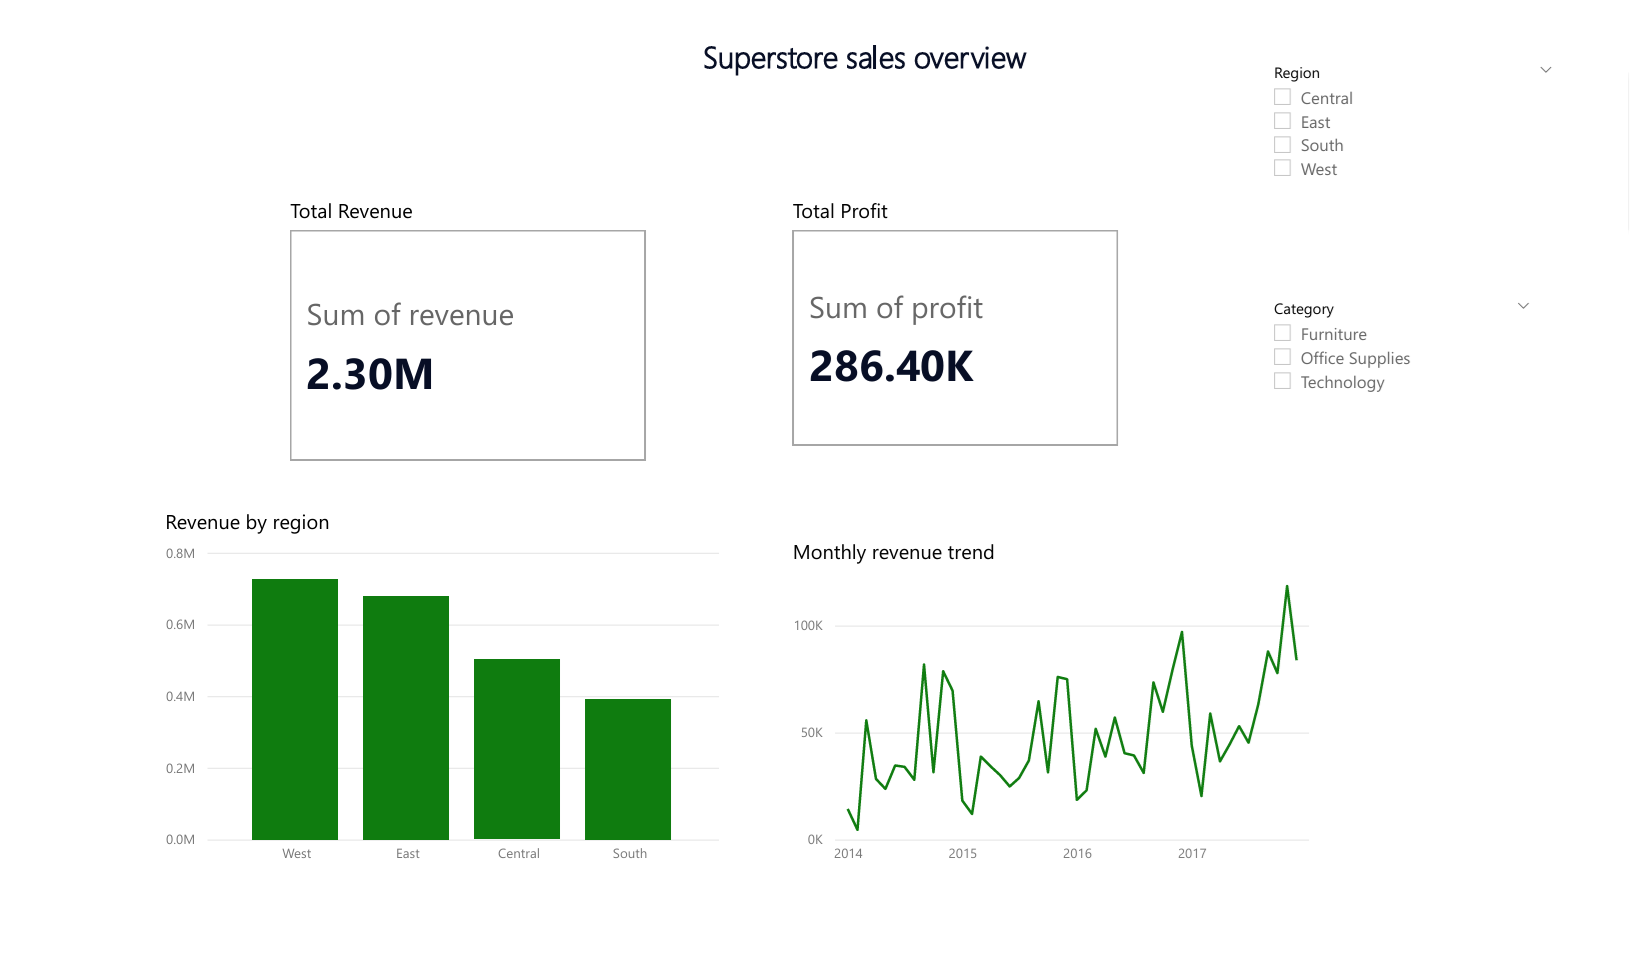

This screenshot's page, from the dashboard's own definition file:
{"tool":"powerbi","page":{"name":"Page 1","canvas":[1280,720],"ordinal":0},"visuals":[{"type":"cardVisual","title":"Total Revenue","fields":{"Data":["Sum(revenue_by_region.revenue)","Sum(revenue_by_region.revenue)"]},"box":[204.3,134.3,294.3,215.7],"z":0},{"type":"cardVisual","title":"Total Profit","fields":{"Data":["Sum(revenue_by_region.profit)"]},"box":[605.7,134.3,270,204.3],"z":1000},{"type":"clusteredColumnChart","title":"Revenue by region","fields":{"Category":["revenue_by_region.Region"],"Y":["Sum(revenue_by_region.revenue)"]},"box":[104.3,382.9,452.9,292.9],"z":2000},{"type":"lineChart","title":"Monthly revenue trend","fields":{"Y":["Sum(monthly_revenue_growth.revenue)"],"Category":["monthly_revenue_growth.month"]},"box":[605.7,407.1,425.7,268.6],"z":3000},{"type":"slicer","fields":{"Values":["revenue_by_region.Region"]},"box":[982.9,21.4,248.6,160],"z":4000},{"type":"slicer","fields":{"Values":["Superstore_clean.Category"]},"box":[982.9,210,230,138.6],"z":5000},{"type":"textbox","box":[534.3,0,315.7,75.7],"z":5001}]}

Visuals, with their boxes in screenshot pixels (x1, y1, x2, y2), scaled from the page's 1280x720 canvas onto the 1652x957 screenshot:
"Total Revenue" cardVisual: (left=264, top=179, right=644, bottom=465)
"Total Profit" cardVisual: (left=782, top=179, right=1130, bottom=450)
"Revenue by region" clusteredColumnChart: (left=135, top=509, right=719, bottom=898)
"Monthly revenue trend" lineChart: (left=782, top=541, right=1331, bottom=898)
slicer - revenue_by_region.Region: (left=1269, top=28, right=1589, bottom=241)
slicer - Superstore_clean.Category: (left=1269, top=279, right=1565, bottom=463)
textbox: (left=690, top=0, right=1097, bottom=101)
